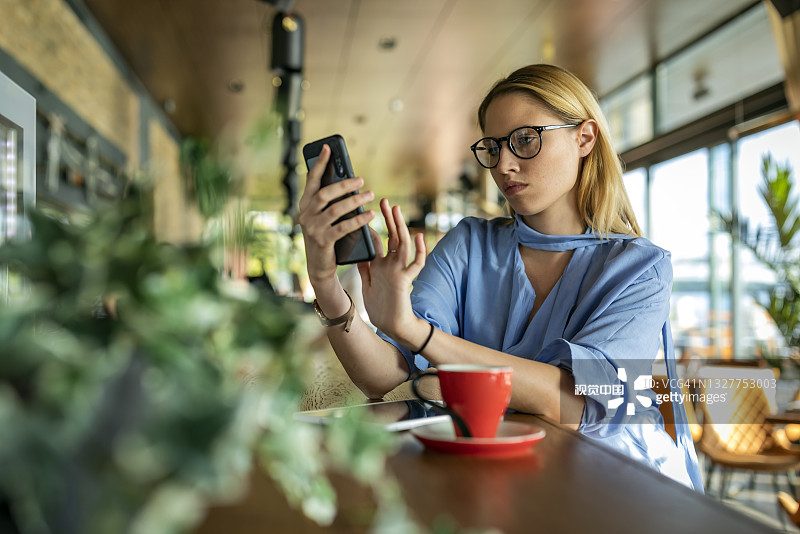reading: (279, 133, 433, 346)
